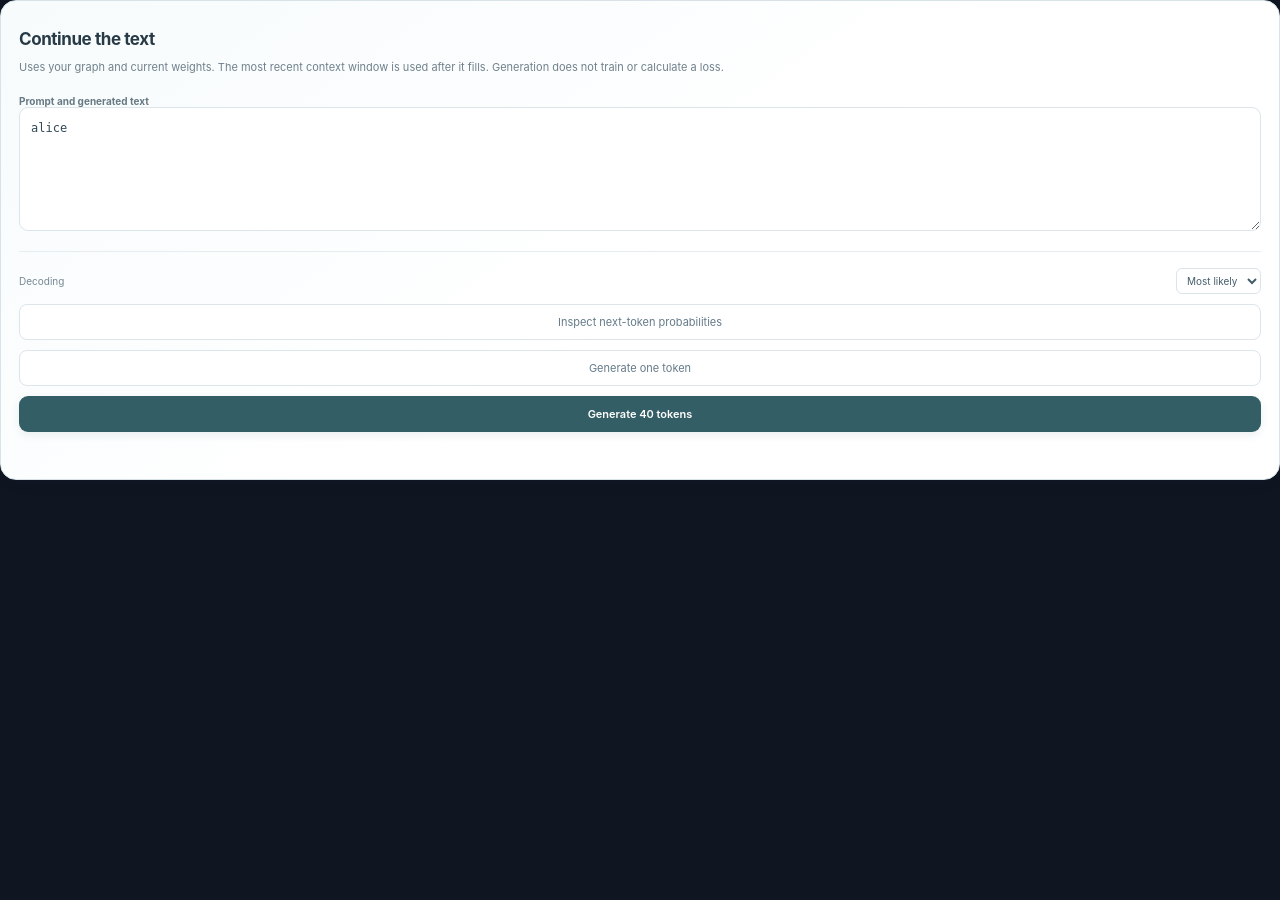
Test: text workflow controls › inspects and generates text from current weights without training
Step 1. Click the button "Inspect next-token probabilities" → (640, 322), box left=19, top=304, right=1261, bottom=340
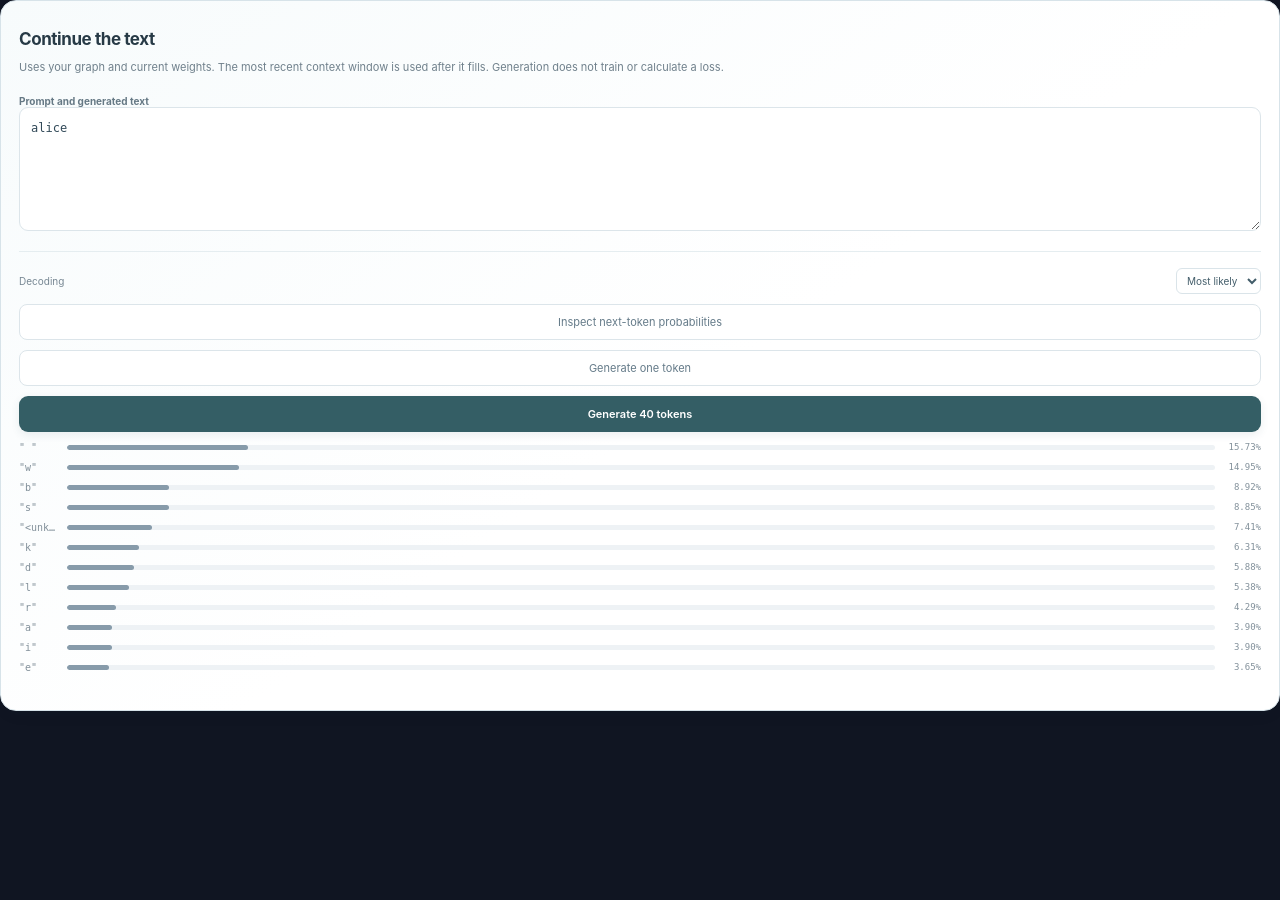
Check: the element named "Text next-token probabilities" shows "%", box left=1256, top=442, right=1261, bottom=452
Step 2. Click the button "Generate 40 tokens" → (640, 414), box left=19, top=396, right=1261, bottom=432
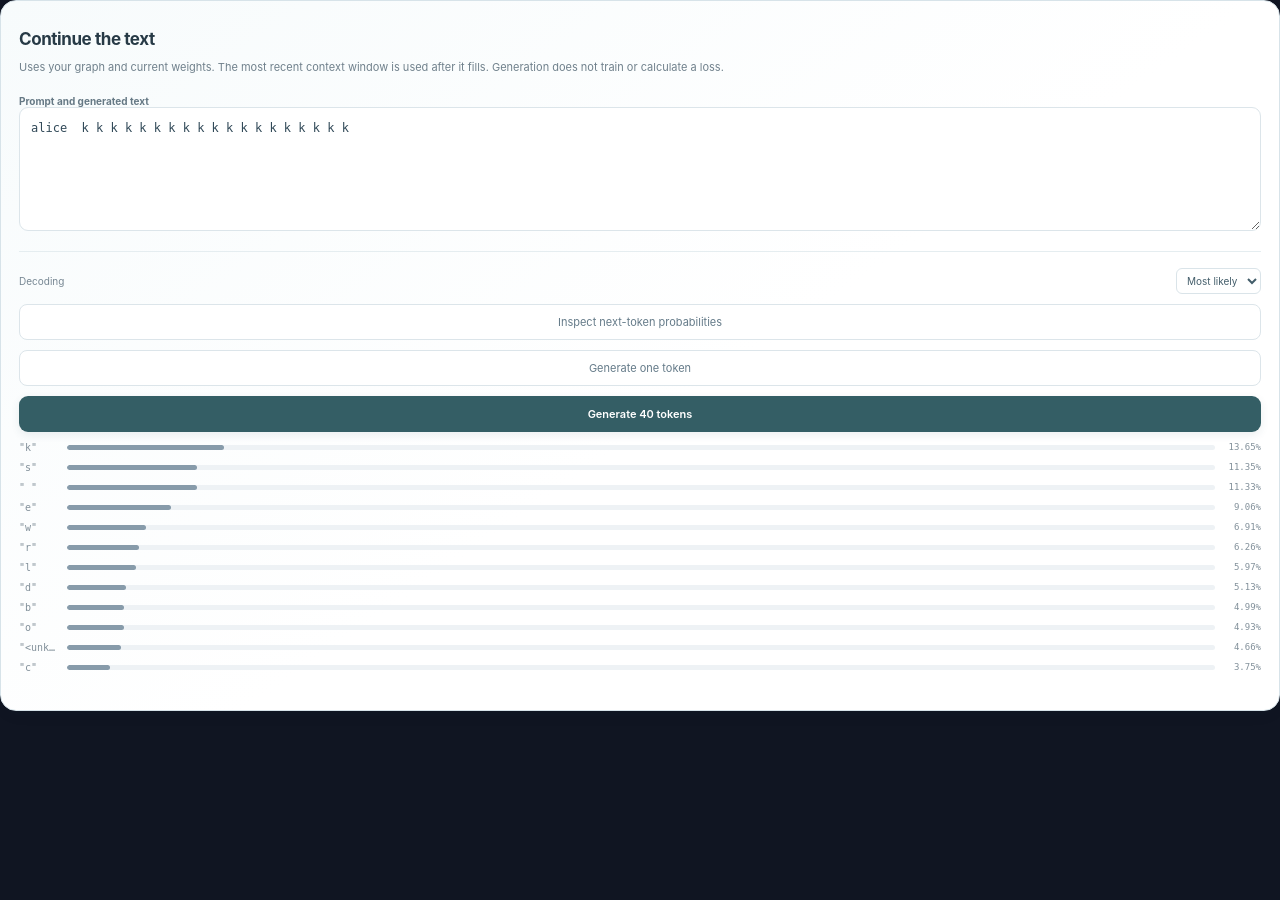
Step 3. Clear the text box named "Text generation prompt" → (640, 169), box left=19, top=107, right=1261, bottom=231
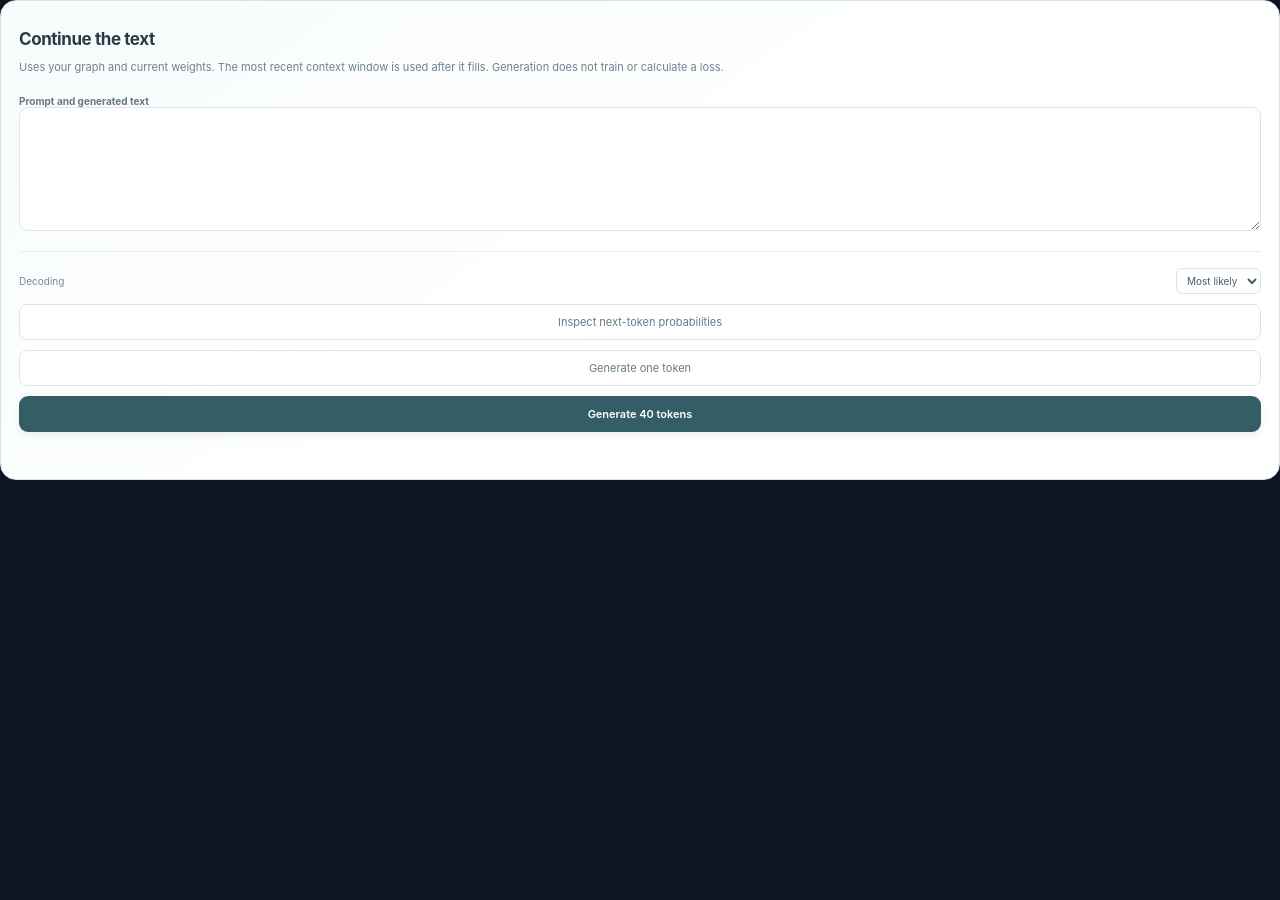
Step 4. Click the button "Generate one token" → (640, 368), box left=19, top=350, right=1261, bottom=386
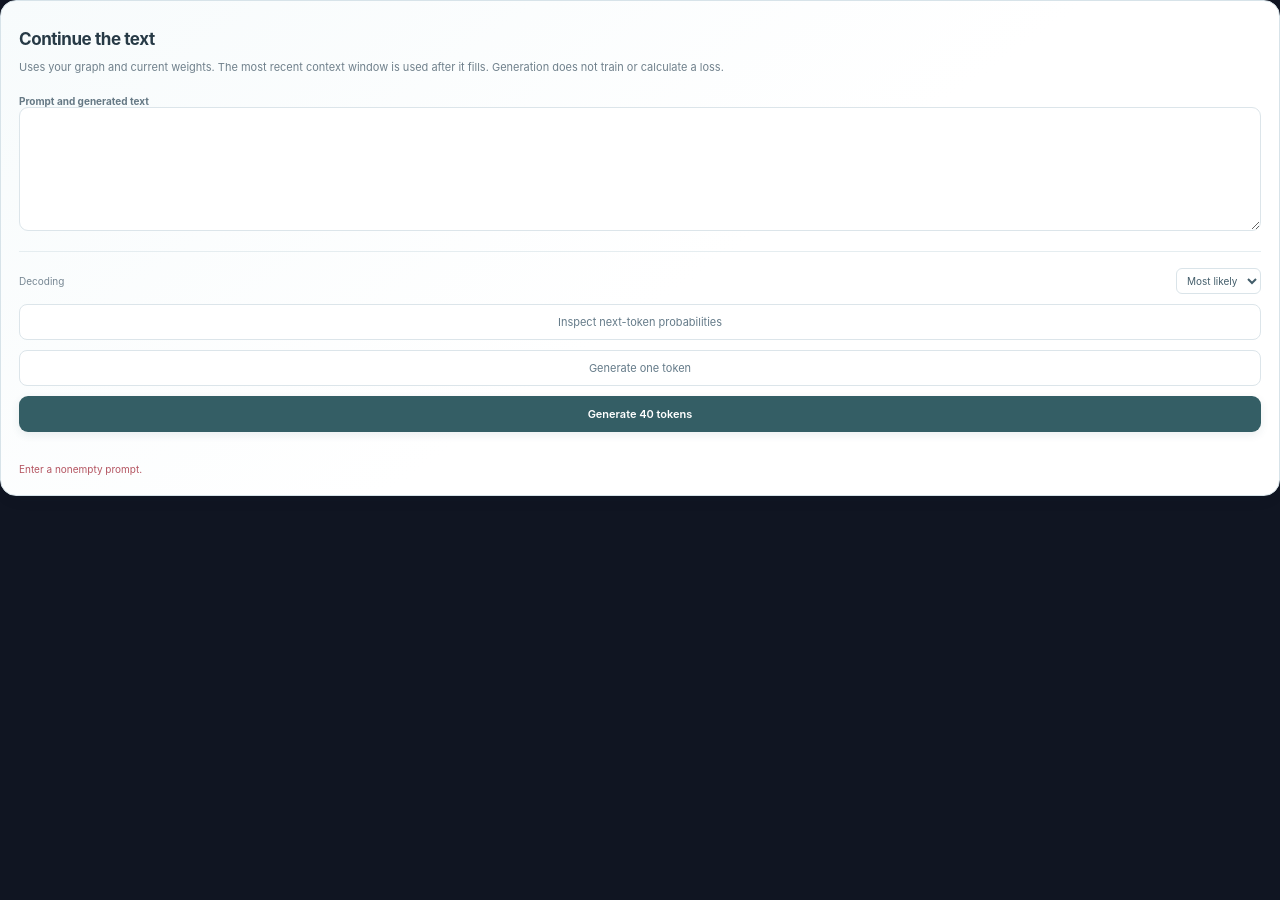
Check: the message shows "nonempty prompt", box left=19, top=463, right=142, bottom=475
